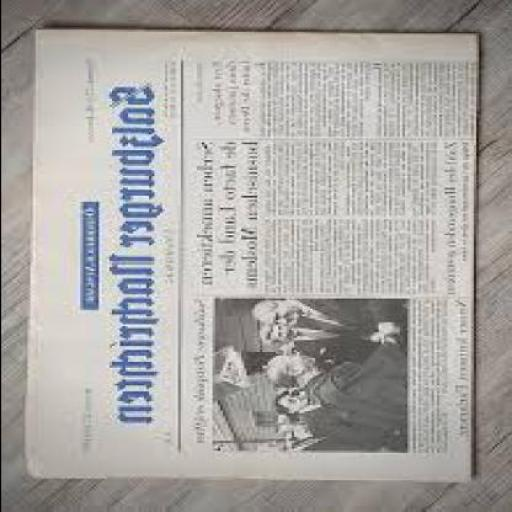paper: (19, 26, 470, 482)
